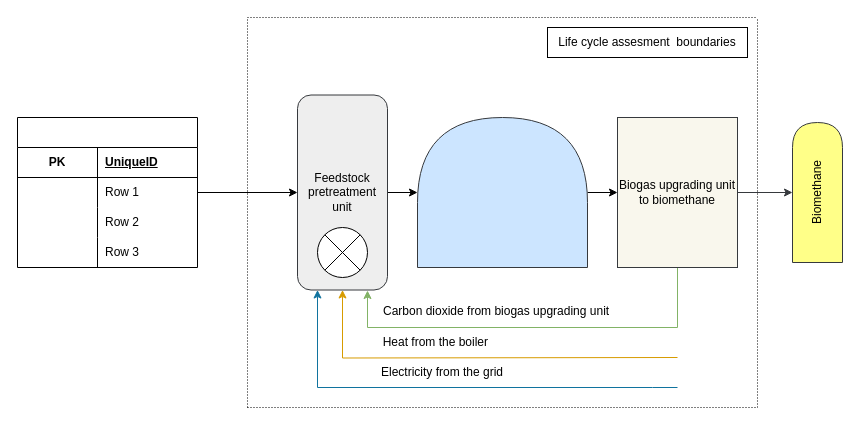
This 860x426 diagram has some shape labels left out. The box of each missing label's shape, as (x1, y1, x2, y2) in pixels:
CSTR biogas digester: (416, 116, 588, 268)
Feedstocks: (16, 116, 198, 268)
